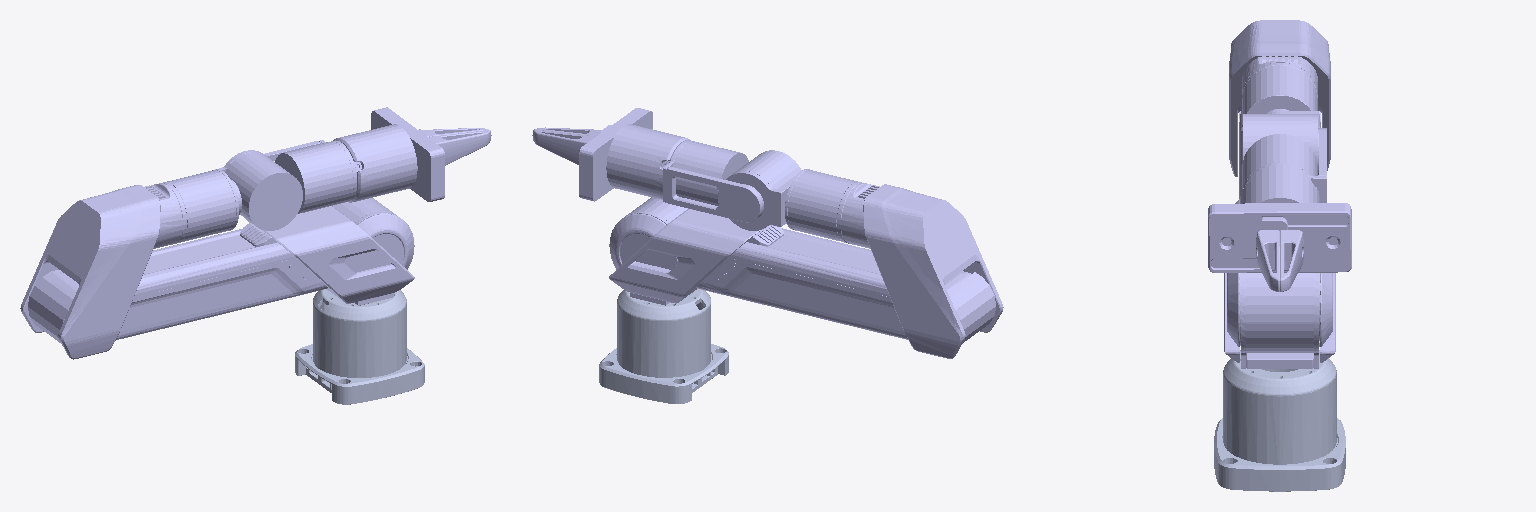
robot.urdf — a1y:
<?xml version="1.0" encoding="utf-8"?>
<!-- This URDF was automatically created by SolidWorks to URDF Exporter! Originally created by [author] ([email redacted]) 
     Commit Version: 1.6.0-4-g7f85cfe  Build Version: 1.6.7995.38578
     For more information, please see http://wiki.ros.org/sw_urdf_exporter -->
<robot
  name="a1y">
  <link
    name="base_link">
    <inertial>
      <origin
        xyz="0.00303246421307354 -0.000695340443194854 0.0297996781638517"
        rpy="0 0 0" />
      <mass
        value="0.786" />
      <inertia
        ixx="0.000209631286775999"
        ixy="1.3987766340865E-06"
        ixz="5.68764766805313E-06"
        iyy="0.000199785107628426"
        iyz="-3.65982104907021E-06"
        izz="0.000237444184695321" />
    </inertial>
    <visual>
      <origin
        xyz="0 0 0"
        rpy="0 0 0" />
      <geometry>
        <mesh
          filename="package://a1y/meshes/base_link.STL" />
      </geometry>
      <material
        name="">
        <color
          rgba="0.792156862745098 0.819607843137255 0.933333333333333 1" />
      </material>
    </visual>
    <collision>
      <origin
        xyz="0 0 0"
        rpy="0 0 0" />
      <geometry>
        <mesh
          filename="package://a1y/meshes/base_link.STL" />
      </geometry>
    </collision>
  </link>
  <link
    name="arm_link1">
    <inertial>
      <origin
        xyz="4.1065175135883E-07 -0.00198628171247454 0.0468863413356551"
        rpy="0 0 0" />
      <mass
        value="0.839" />
      <inertia
        ixx="0.000224135392915726"
        ixy="-1.28206810172038E-09"
        ixz="7.50235402650185E-09"
        iyy="0.00026979982869931"
        iyz="7.49527197322758E-09"
        izz="0.000218724360467532" />
    </inertial>
    <visual>
      <origin
        xyz="0 0 0"
        rpy="0 0 0" />
      <geometry>
        <mesh
          filename="package://a1y/meshes/arm_link1.STL" />
      </geometry>
      <material
        name="">
        <color
          rgba="0.823529411764706 0.823529411764706 1 1" />
      </material>
    </visual>
    <collision>
      <origin
        xyz="0 0 0"
        rpy="0 0 0" />
      <geometry>
        <mesh
          filename="package://a1y/meshes/arm_link1.STL" />
      </geometry>
    </collision>
  </link>
  <joint
    name="arm_joint1"
    type="revolute">
    <origin
      xyz="0 0 0.08605"
      rpy="0 0 0" />
    <parent
      link="base_link" />
    <child
      link="arm_link1" />
    <axis
      xyz="0 0 1" />
    <limit
      lower="-2.879795"
      upper="2.879795"
      effort="27"
      velocity="10.4720" />
  </joint>
  <link
    name="arm_link2">
    <inertial>
      <origin
        xyz="-0.122673818397923 -0.0295401461831619 0.00364838977156251"
        rpy="0 0 0" />
      <mass
        value="1.09" />
      <inertia
        ixx="0.000388311522528777"
        ixy="-2.18086613093501E-05"
        ixz="8.77434895649448E-06"
        iyy="0.00274683151904258"
        iyz="1.19756607314247E-06"
        izz="0.00278055331308976" />
    </inertial>
    <visual>
      <origin
        xyz="0 0 0"
        rpy="0 0 0" />
      <geometry>
        <mesh
          filename="package://a1y/meshes/arm_link2.STL" />
      </geometry>
      <material
        name="">
        <color
          rgba="0.823529411764706 0.823529411764706 1 1" />
      </material>
    </visual>
    <collision>
      <origin
        xyz="0 0 0"
        rpy="0 0 0" />
      <geometry>
        <mesh
          filename="package://a1y/meshes/arm_link2.STL" />
      </geometry>
    </collision>
  </link>
  <joint
    name="arm_joint2"
    type="revolute">
    <origin
      xyz="0 0.03075 0.04925"
      rpy="0 0 0" />
    <parent
      link="arm_link1" />
    <child
      link="arm_link2" />
    <axis
      xyz="0 1 0" />
    <limit
      lower="0"
      upper="3.1416"
      effort="50"
      velocity="12.5664" />
  </joint>
  <link
    name="arm_link3">
    <inertial>
      <origin
        xyz="0.0795681449160072 -0.0327357454565678 0.065177920553168"
        rpy="0 0 0" />
      <mass
        value="0.762" />
      <inertia
        ixx="0.000282703505875711"
        ixy="-4.06256349285171E-06"
        ixz="-7.63228373259732E-05"
        iyy="0.000329835410245831"
        iyz="-1.03493005263955E-05"
        izz="0.000237652038430906" />
    </inertial>
    <visual>
      <origin
        xyz="0 0 0"
        rpy="0 0 0" />
      <geometry>
        <mesh
          filename="package://a1y/meshes/arm_link3.STL" />
      </geometry>
      <material
        name="">
        <color
          rgba="0.823529411764706 0.823529411764706 1 1" />
      </material>
    </visual>
    <collision>
      <origin
        xyz="0 0 0"
        rpy="0 0 0" />
      <geometry>
        <mesh
          filename="package://a1y/meshes/arm_link3.STL" />
      </geometry>
    </collision>
  </link>
  <joint
    name="arm_joint3"
    type="revolute">
    <origin
      xyz="-0.3 0.00024449 0"
      rpy="0 0 0" />
    <parent
      link="arm_link2" />
    <child
      link="arm_link3" />
    <axis
      xyz="0 1 0" />
    <limit
      lower="-3.316127"
      upper="0"
      effort="27"
      velocity="10.4720" />
  </joint>
  <link
    name="arm_link4">
    <inertial>
      <origin
        xyz="0.0388578803222686 0.000937806543809841 -1.15721572034322E-05"
        rpy="0 0 0" />
      <mass
        value="0.353" />
      <inertia
        ixx="5.97701758868814E-05"
        ixy="-6.87774799668449E-10"
        ixz="-2.14372946639157E-10"
        iyy="6.0587917049985E-05"
        iyz="-5.98401601618766E-11"
        izz="5.98342278178533E-05" />
    </inertial>
    <visual>
      <origin
        xyz="0 0 0"
        rpy="0 0 0" />
      <geometry>
        <mesh
          filename="package://a1y/meshes/arm_link4.STL" />
      </geometry>
      <material
        name="">
        <color
          rgba="0.823529411764706 0.823529411764706 1 1" />
      </material>
    </visual>
    <collision>
      <origin
        xyz="0 0 0"
        rpy="0 0 0" />
      <geometry>
        <mesh
          filename="package://a1y/meshes/arm_link4.STL" />
      </geometry>
    </collision>
  </link>
  <joint
    name="arm_joint4"
    type="revolute">
    <origin
      xyz="0.1544 -0.030998 0.075485"
      rpy="0 0 0" />
    <parent
      link="arm_link3" />
    <child
      link="arm_link4" />
    <axis
      xyz="1 0 0" />
    <limit
      lower="-2.879795"
      upper="2.879795"
      effort="14"
      velocity="32.9867" />
  </joint>
  <link
    name="arm_link5">
    <inertial>
      <origin
        xyz="0.0526293728146609 -0.0197387756630963 7.38547745043894E-06"
        rpy="0 0 0" />
      <mass
        value="0.366" />
      <inertia
        ixx="5.87226827172217E-05"
        ixy="3.94835644387525E-09"
        ixz="-1.57113932950695E-12"
        iyy="6.96559934519655E-05"
        iyz="7.55674102061766E-09"
        izz="6.85055623583414E-05" />
    </inertial>
    <visual>
      <origin
        xyz="0 0 0"
        rpy="0 0 0" />
      <geometry>
        <mesh
          filename="package://a1y/meshes/arm_link5.STL" />
      </geometry>
      <material
        name="">
        <color
          rgba="0.823529411764706 0.823529411764706 1 1" />
      </material>
    </visual>
    <collision>
      <origin
        xyz="0 0 0"
        rpy="0 0 0" />
      <geometry>
        <mesh
          filename="package://a1y/meshes/arm_link5.STL" />
      </geometry>
    </collision>
  </link>
  <joint
    name="arm_joint5"
    type="revolute">
    <origin
      xyz="0.0418 0.023501 0"
      rpy="0 0 0" />
    <parent
      link="arm_link4" />
    <child
      link="arm_link5" />
    <axis
      xyz="0 1 0" />
    <limit
      lower="-1.832597"
      upper="1.832597"
      effort="14"
      velocity="32.9867" />
  </joint>
  <link
    name="arm_link6">
    <inertial>
      <origin
        xyz="0.00709944781467154 1.26586535489642E-07 -3.8262881471296E-05"
        rpy="0 0 0" />
      <mass
        value="0.031" />
      <inertia
        ixx="3.44528457425794E-06"
        ixy="2.98138934982256E-11"
        ixz="-1.26128084918303E-09"
        iyy="1.82573408455416E-06"
        iyz="1.17092872453752E-14"
        izz="1.8173151968758E-06" />
    </inertial>
    <visual>
      <origin
        xyz="0 0 0"
        rpy="0 0 0" />
      <geometry>
        <mesh
          filename="package://a1y/meshes/arm_link6.STL" />
      </geometry>
      <material
        name="">
        <color
          rgba="0.823529411764706 0.823529411764706 1 1" />
      </material>
    </visual>
    <collision>
      <origin
        xyz="0 0 0"
        rpy="0 0 0" />
      <geometry>
        <mesh
          filename="package://a1y/meshes/arm_link6.STL" />
      </geometry>
    </collision>
  </link>
  <joint
    name="arm_joint6"
    type="revolute">
    <origin
      xyz="0.081 -0.023499 0"
      rpy="0 0 0" />
    <parent
      link="arm_link5" />
    <child
      link="arm_link6" />
    <axis
      xyz="1 0 0" />
    <limit
      lower="-2.879795"
      upper="2.879795"
      effort="14"
      velocity="32.9867" />
  </joint>
  <link
    name="gripper_link">
    <inertial>
      <origin
        xyz="-0.0311072379463468 -5.32126034905504E-07 -9.19980751579175E-08"
        rpy="0 0 0" />
      <mass
        value="0.604" />
      <inertia
        ixx="0.00017587895693059"
        ixy="1.38739918178544E-09"
        ixz="1.28476385950592E-09"
        iyy="9.86355058862358E-05"
        iyz="-8.18608543121037E-08"
        izz="0.000165120403698736" />
    </inertial>
    <visual>
      <origin
        xyz="0 0 0"
        rpy="0 0 0" />
      <geometry>
        <mesh
          filename="package://a1y/meshes/gripper_link.STL" />
      </geometry>
      <material
        name="">
        <color
          rgba="0.823529411764706 0.823529411764706 1 1" />
      </material>
    </visual>
    <collision>
      <origin
        xyz="0 0 0"
        rpy="0 0 0" />
      <geometry>
        <mesh
          filename="package://a1y/meshes/gripper_link.STL" />
      </geometry>
    </collision>
  </link>
  <joint
    name="gripper_joint"
    type="fixed">
    <origin
      xyz="0.08165 0 0"
      rpy="0 0 0" />
    <parent
      link="arm_link6" />
    <child
      link="gripper_link" />
    <axis
      xyz="0 0 0" />
  </joint>
  <link
    name="gripper_finger_link1">
    <inertial>
      <origin
        xyz="-0.0195892566606875 -0.0151140214225836 0.00542244704455089"
        rpy="0 0 0" />
      <mass
        value="0.027" />
      <inertia
        ixx="2.4056694815471E-06"
        ixy="3.98931810903216E-07"
        ixz="5.12130822079716E-08"
        iyy="5.71084140803849E-06"
        iyz="6.19490405774933E-08"
        izz="6.48485512533118E-06" />
    </inertial>
    <visual>
      <origin
        xyz="0 0 0"
        rpy="0 0 0" />
      <geometry>
        <mesh
          filename="package://a1y/meshes/gripper_finger_link1.STL" />
      </geometry>
      <material
        name="">
        <color
          rgba="0.823529411764706 0.823529411764706 1 1" />
      </material>
    </visual>
    <collision>
      <origin
        xyz="0 0 0"
        rpy="0 0 0" />
      <geometry>
        <mesh
          filename="package://a1y/meshes/gripper_finger_link1.STL" />
      </geometry>
    </collision>
  </link>
  <joint
    name="gripper_finger_joint1"
    type="prismatic">
    <origin
      xyz="0.03689 0.013454 0.00012065"
      rpy="0 0 0" />
    <parent
      link="gripper_link" />
    <child
      link="gripper_finger_link1" />
    <axis
      xyz="0 1 0" />
    <limit
      lower="0"
      upper="0.05"
      effort="100"
      velocity="0.25" />
  </joint>
  <link
    name="gripper_finger_link2">
    <inertial>
      <origin
        xyz="-0.0195898119754071 0.0151133016660799 -0.00542244700767924"
        rpy="0 0 0" />
      <mass
        value="0.027" />
      <inertia
        ixx="2.40569880083347E-06"
        ixy="-3.99053247972178E-07"
        ixz="-5.12153506189465E-08"
        iyy="5.71081208855091E-06"
        iyz="6.19471596215801E-08"
        izz="6.48485512551603E-06" />
    </inertial>
    <visual>
      <origin
        xyz="0 0 0"
        rpy="0 0 0" />
      <geometry>
        <mesh
          filename="package://a1y/meshes/gripper_finger_link2.STL" />
      </geometry>
      <material
        name="">
        <color
          rgba="0.823529411764706 0.823529411764706 1 1" />
      </material>
    </visual>
    <collision>
      <origin
        xyz="0 0 0"
        rpy="0 0 0" />
      <geometry>
        <mesh
          filename="package://a1y/meshes/gripper_finger_link2.STL" />
      </geometry>
    </collision>
  </link>
  <joint
    name="gripper_finger_joint2"
    type="prismatic">
    <origin
      xyz="0.03689 -0.013452 -0.00012065"
      rpy="0 0 0" />
    <parent
      link="gripper_link" />
    <child
      link="gripper_finger_link2" />
    <axis
      xyz="0 1 0" />
    <limit
      lower="-0.05"
      upper="0"
      effort="100"
      velocity="0.25" />
  </joint>
</robot>

--- Render facts (derived) ---
3 views of the same robot in one strip: view 1: azimuth 30°, elevation 25°; view 2: azimuth 150°, elevation 25°; view 3: azimuth 270°, elevation 25° (orthographic).
Robot: a1y — 10 links, 9 joints (6 revolute, 2 prismatic, 1 fixed); root link base_link; default pose: all joints at 0.
Links seen in each view (by area): view 1: arm_link2, arm_link3, base_link, gripper_link, arm_link4, arm_link5, arm_link1, gripper_finger_link2; view 2: arm_link2, arm_link3, base_link, gripper_link, arm_link5, arm_link4, arm_link1, gripper_finger_link1; view 3: base_link, gripper_link, arm_link3, arm_link1, arm_link2, arm_link5, arm_link4, gripper_finger_link1, gripper_finger_link2.
Link boxes in pixels (box(x1,y1,x2,y2)): arm_link2: box(28, 206, 414, 342); arm_link3: box(20, 169, 238, 359); base_link: box(295, 289, 424, 404); gripper_link: box(333, 107, 444, 202); arm_link4: box(215, 150, 302, 230); arm_link5: box(264, 140, 356, 213); arm_link1: box(332, 198, 399, 305); gripper_finger_link2: box(430, 130, 491, 165); arm_link2: box(609, 209, 995, 342); arm_link3: box(785, 169, 1003, 358); base_link: box(599, 289, 728, 403); gripper_link: box(579, 108, 690, 201); arm_link5: box(663, 140, 763, 222); arm_link4: box(726, 150, 801, 230); arm_link1: box(622, 197, 687, 305); gripper_finger_link1: box(532, 125, 611, 164); base_link: box(1214, 350, 1345, 491); gripper_link: box(1208, 165, 1351, 272); arm_link3: box(1229, 20, 1330, 176); arm_link1: box(1240, 273, 1319, 368); arm_link2: box(1224, 111, 1335, 362); arm_link5: box(1242, 128, 1326, 202); arm_link4: box(1243, 109, 1317, 163); gripper_finger_link1: box(1261, 217, 1303, 291); gripper_finger_link2: box(1256, 230, 1287, 291).
Bounding box of the posed robot: 0.4714 × 0.1083 × 0.2409 m (x, y, z).
Meshes: 10 distinct files referenced, 10 mesh visuals loaded (10 binary STL).
